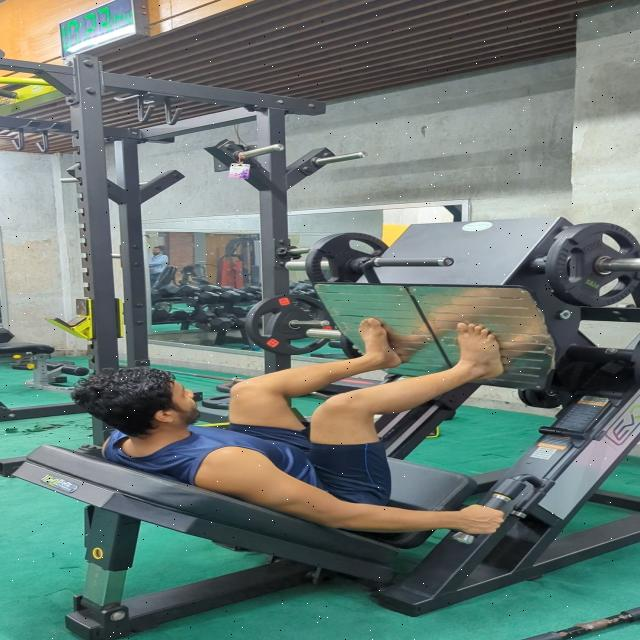Normal_LegPress: (54, 316, 528, 542)
